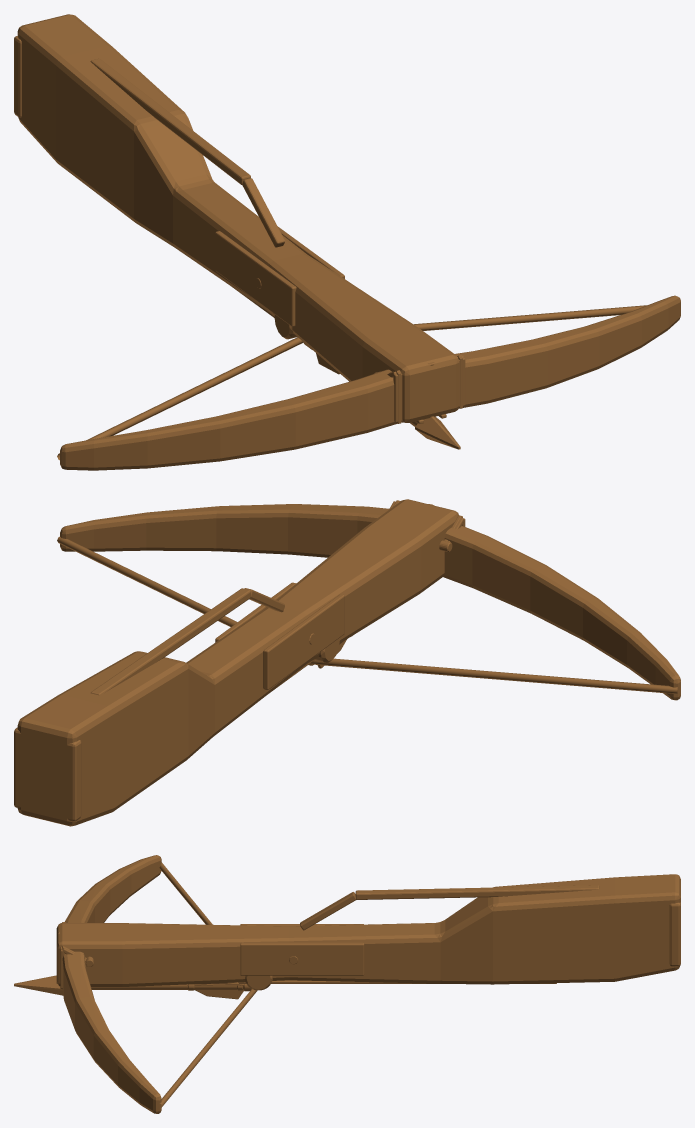
Rendered from AuxiliaHeavyArbalestCocked.fbx.
The picture shows the model from 3 angles, top to bottom: view 1: azimuth 30°, elevation 25°; view 2: azimuth 150°, elevation 25°; view 3: azimuth 270°, elevation 25°; orthographic projection. The views are drawn at different scales.
Visible parts, largest first — view 1: AuxiliaHeavyArbalestCocked_GameExport; view 2: AuxiliaHeavyArbalestCocked_GameExport; view 3: AuxiliaHeavyArbalestCocked_GameExport.
Part boxes in pixels (box(x1,y1,x2,y2)): AuxiliaHeavyArbalestCocked_GameExport: box(14, 14, 680, 470); AuxiliaHeavyArbalestCocked_GameExport: box(14, 499, 680, 826); AuxiliaHeavyArbalestCocked_GameExport: box(14, 855, 680, 1113).
Bounding box in the file's own units: 29.64 × 34.4 × 6.59.
